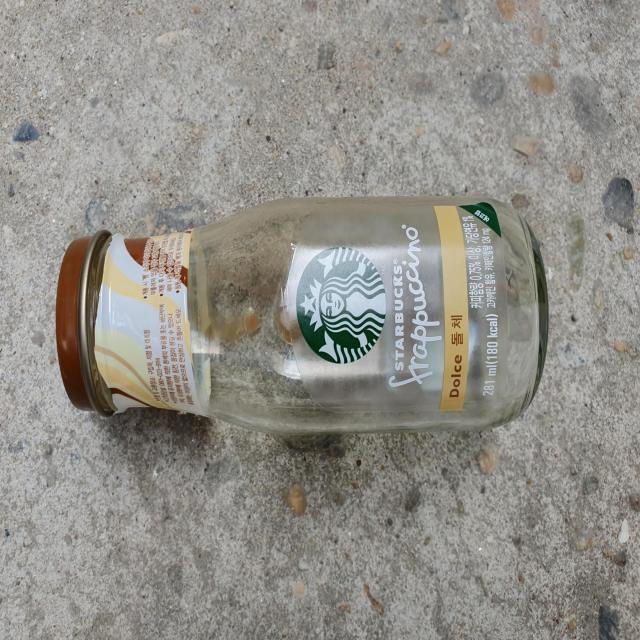glass: (55, 196, 549, 434)
